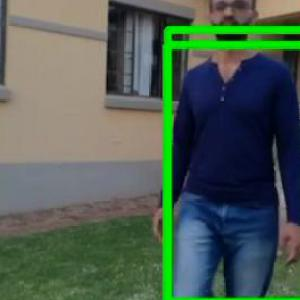follow: (170, 0, 288, 299)
